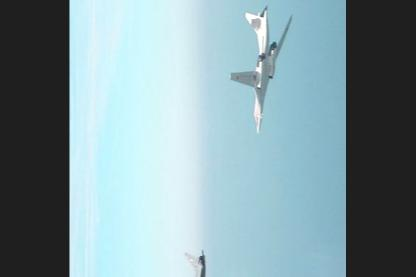E2: (183, 248, 206, 276)
Su34: (229, 3, 292, 134)
